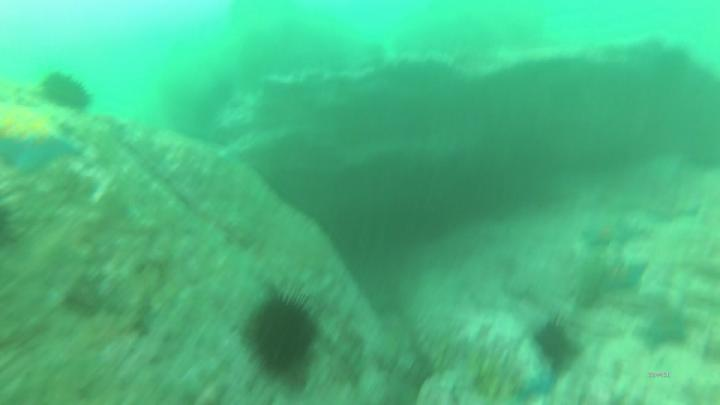echinus: (239, 290, 322, 382), (41, 71, 94, 115), (535, 319, 572, 368)
starfish: (1, 104, 92, 175), (585, 257, 653, 298), (632, 310, 694, 354), (639, 188, 698, 224), (583, 218, 638, 250)
